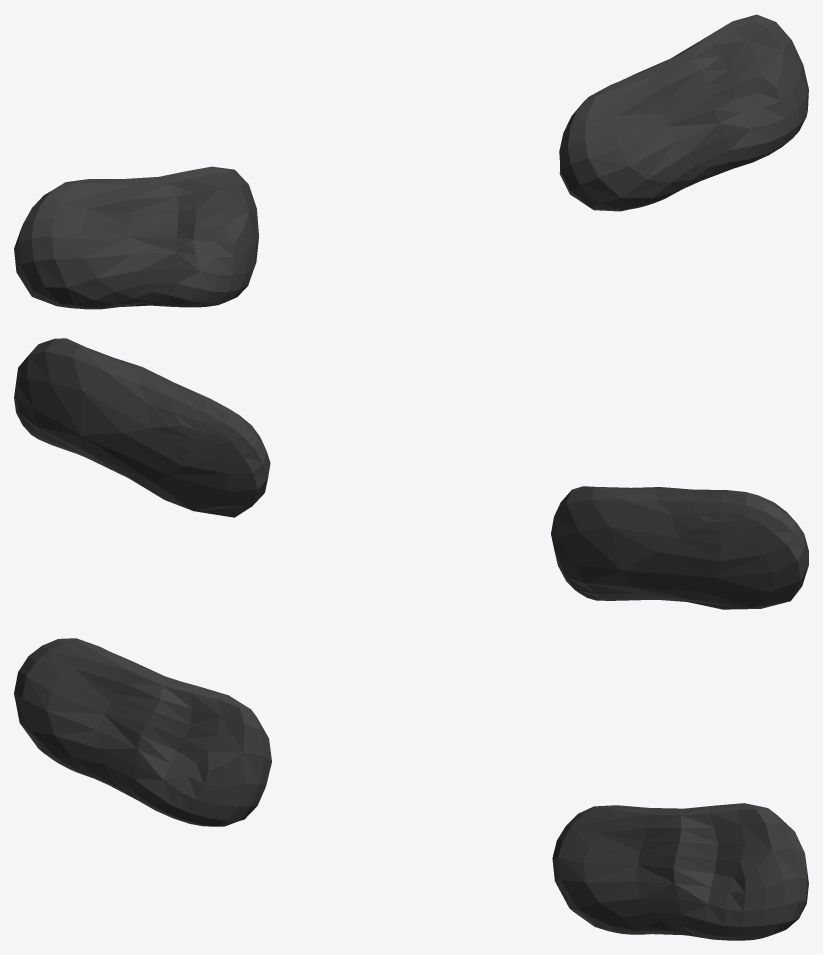
The model's file is Distal_sesamoids_Sesamoids_005.glb.
3 renders of one model, top to bottom at view 1: azimuth 30°, elevation 25°; view 2: azimuth 150°, elevation 25°; view 3: azimuth 330°, elevation 25°, orthographic.
Visible parts, largest first — view 1: Distal_sesamoids_Sesamoids_005; view 2: Distal_sesamoids_Sesamoids_005; view 3: Distal_sesamoids_Sesamoids_005.
Part boxes in pixels (box(x1,y1,x2,y2)): Distal_sesamoids_Sesamoids_005: box(14, 14, 808, 309); Distal_sesamoids_Sesamoids_005: box(14, 338, 808, 609); Distal_sesamoids_Sesamoids_005: box(14, 638, 808, 940).
Size of the model in its own units: 0.1344 by 0.0252 by 0.0139.
Materials: 1 (1 with a texture image).
